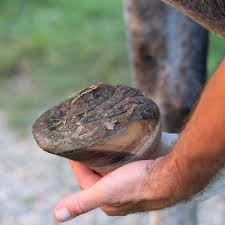horsesole: (32, 81, 137, 154)
